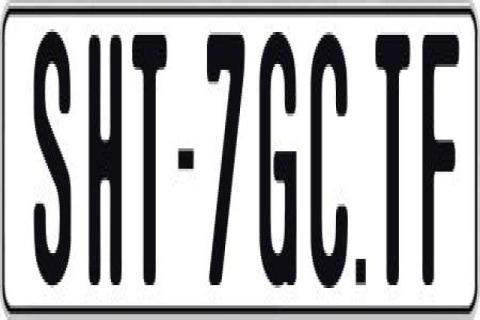0: (205, 32, 247, 300)
C: (310, 32, 352, 288)
F: (421, 29, 462, 279)
G: (256, 32, 293, 294)
H: (86, 27, 122, 280)
S: (30, 32, 74, 302)
T: (374, 29, 412, 297), (129, 35, 164, 285)
